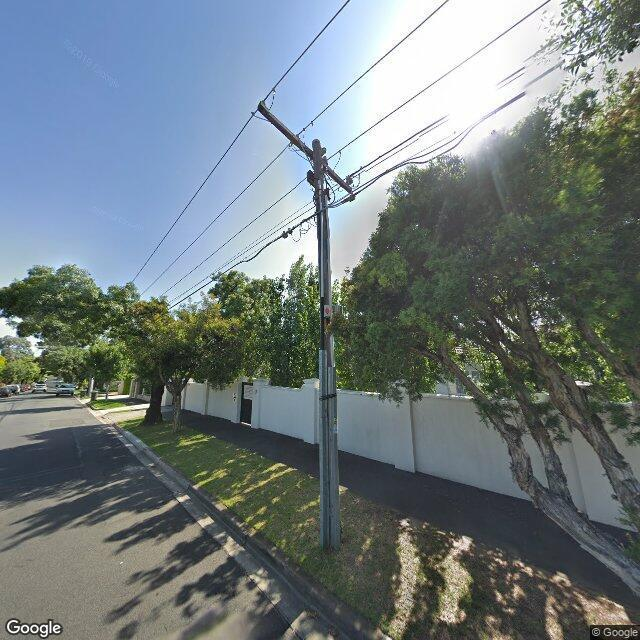crossarm: (252, 88, 355, 202)
timber-pole: (311, 138, 341, 552)
